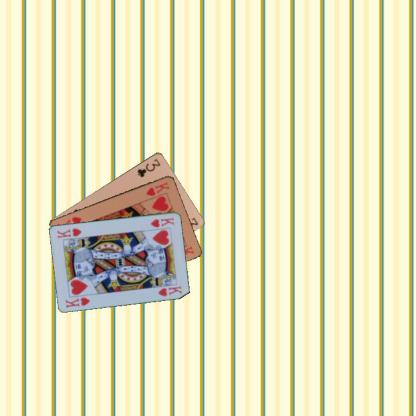3c: (134, 156, 162, 178)
Kh: (144, 179, 170, 197), (148, 214, 176, 229), (63, 294, 91, 309)
